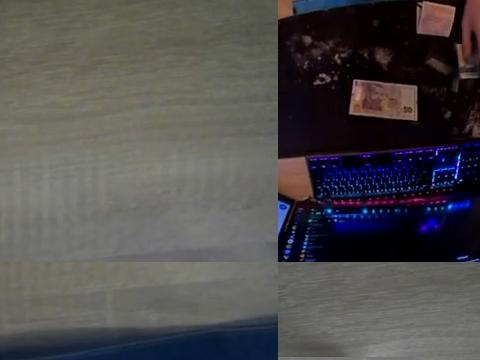50leva: (347, 79, 420, 125)
